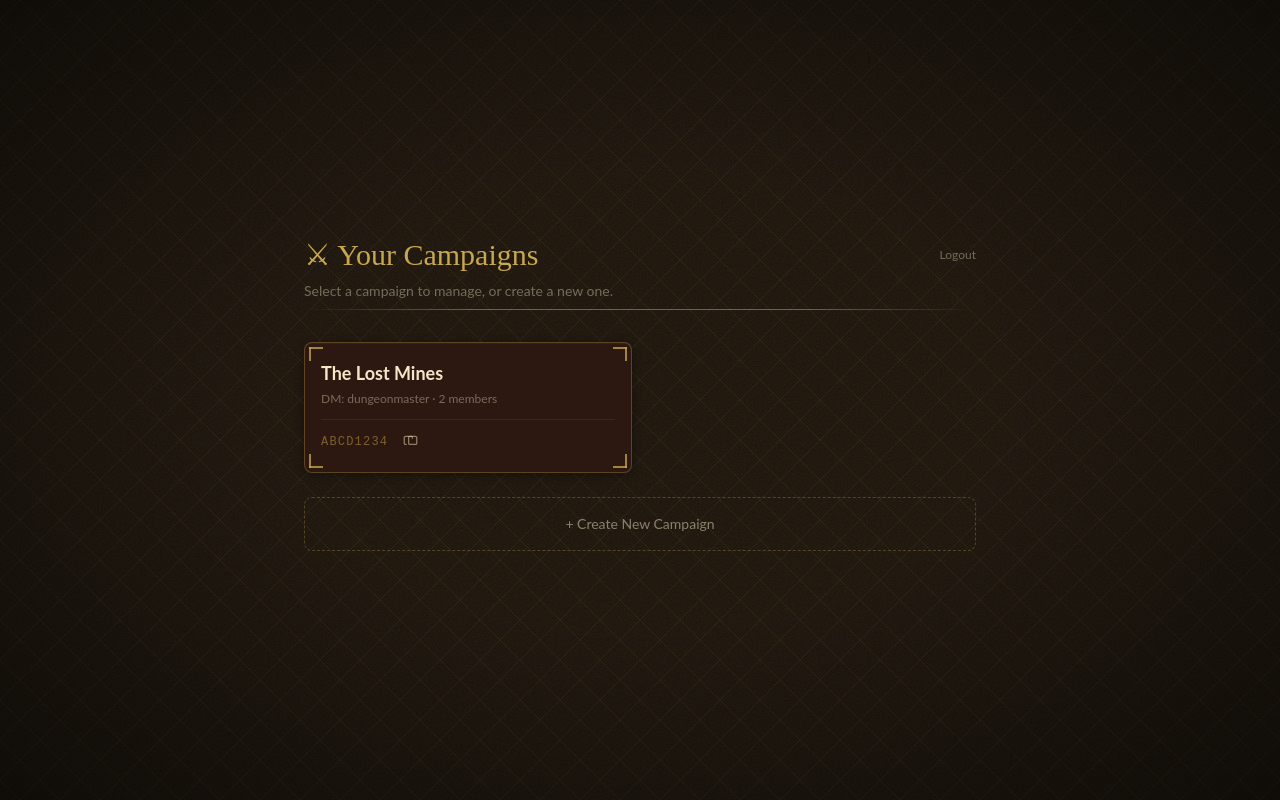
Test: CampaignSelectPage (DM) › shows create form when button clicked
The width and height of the screenshot is (1280, 800).
Click the button "+ Create New Campaign" at coordinates (640, 524), box top-left (304, 497), bottom-right (976, 551)
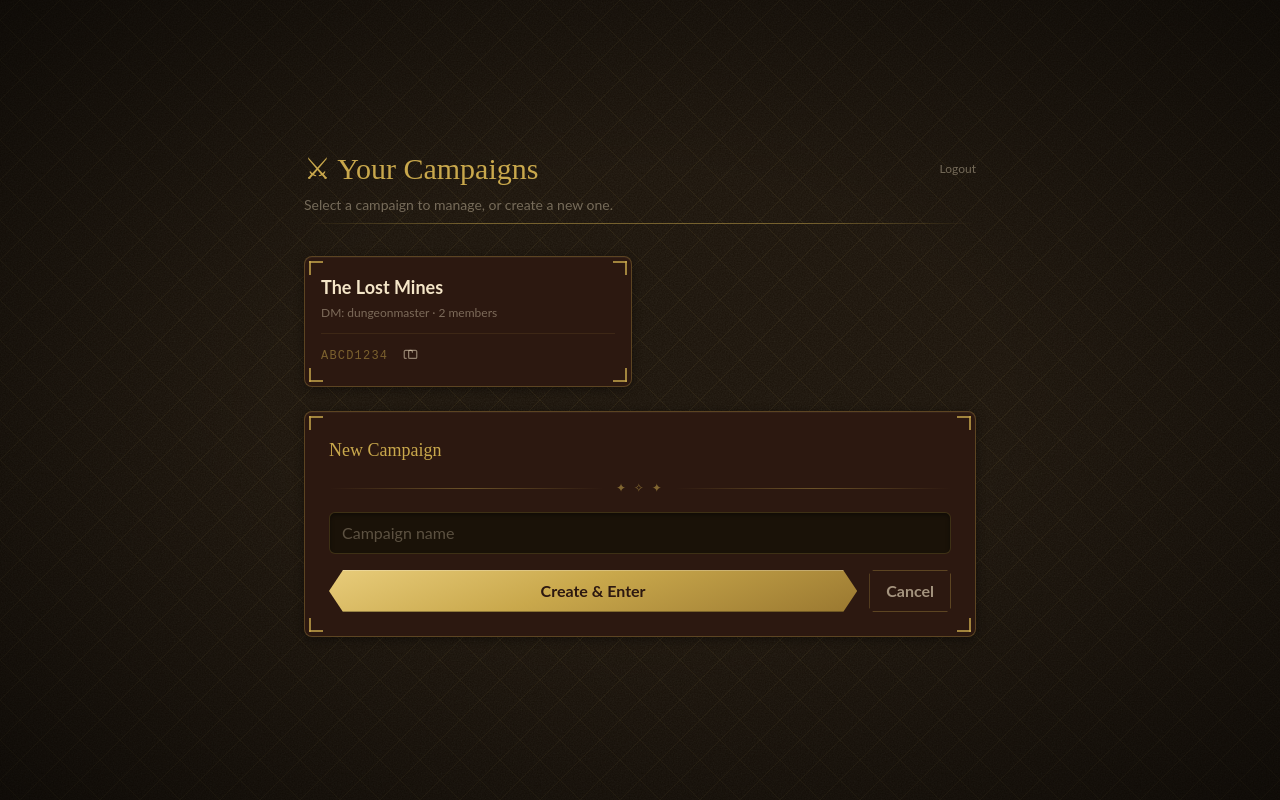
Check: the field with placeholder "Campaign name" is shown, box top-left (329, 512), bottom-right (951, 554)
